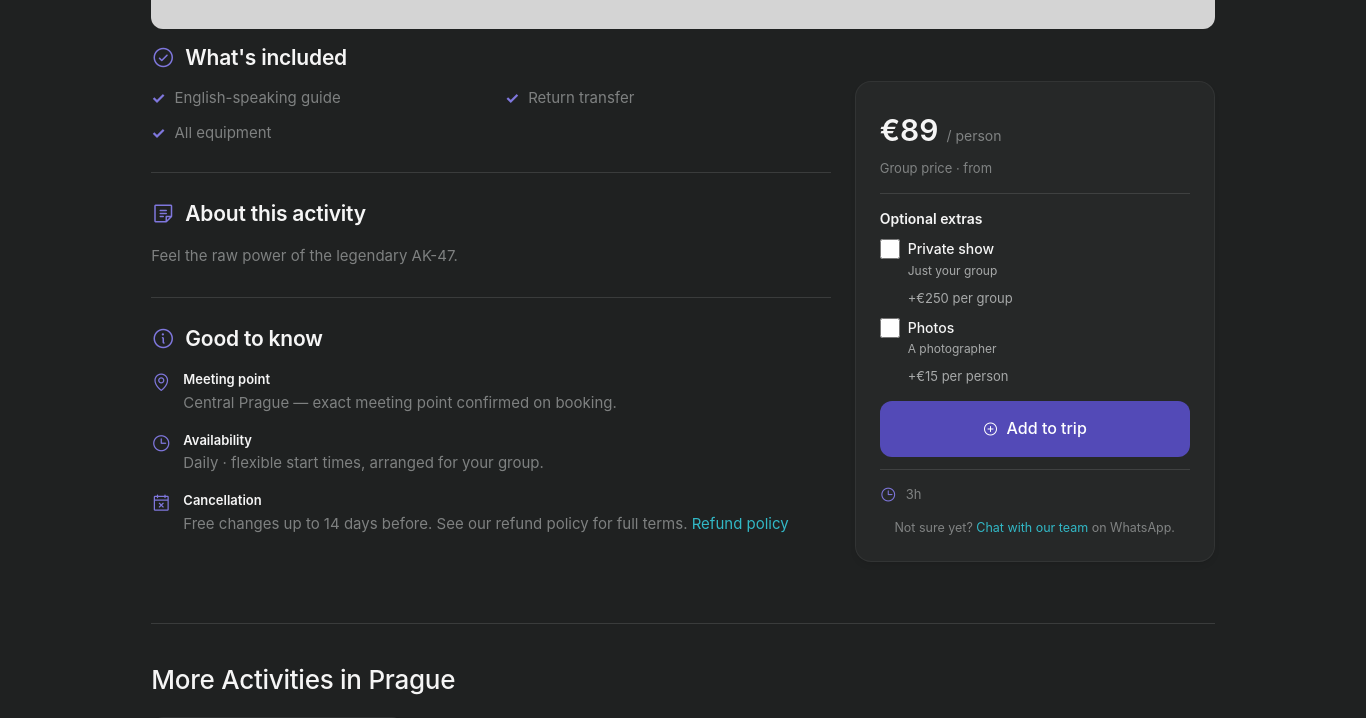
once the activity is in the trip, a ticked extra reaches it only through Update
(page scrolled)
Click the button "Add to trip" at (1035, 429), box [880,402,1190,457]
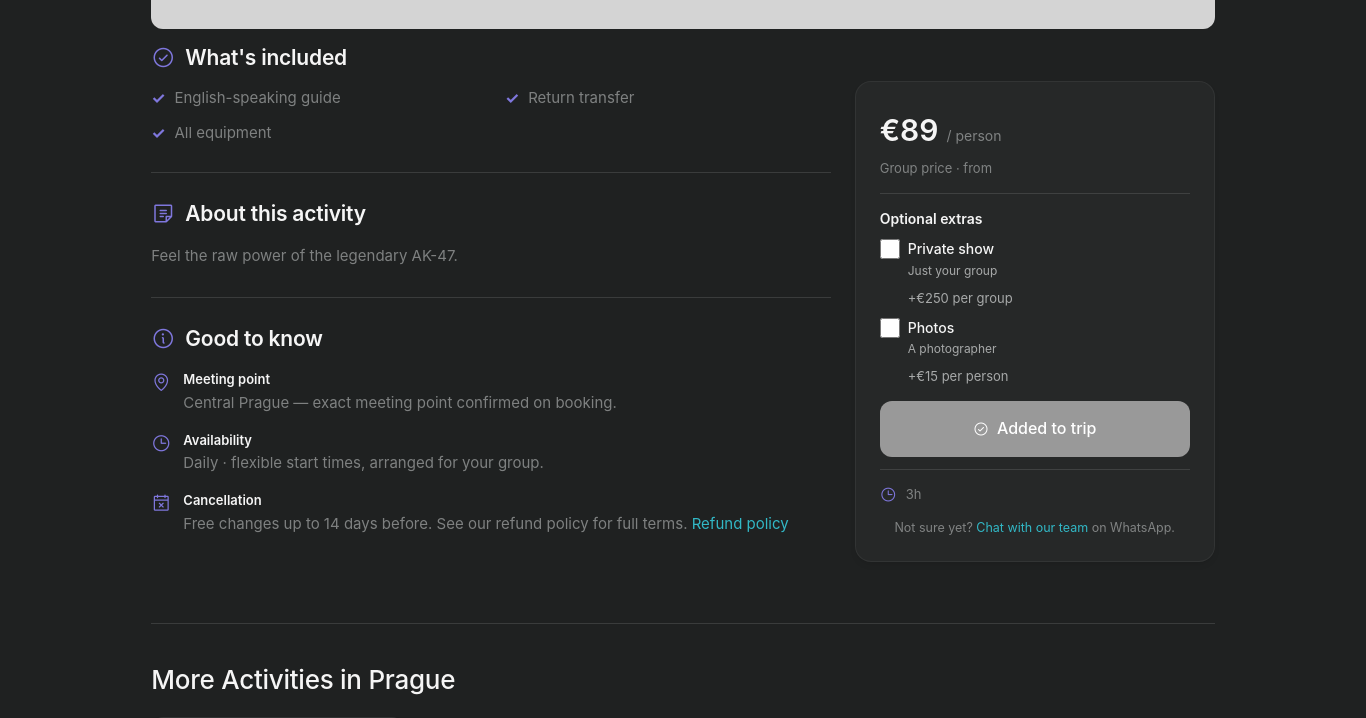
Click the checkbox labelled "Private show Just your group +€250 per group" at (890, 250), box [880,240,900,260]
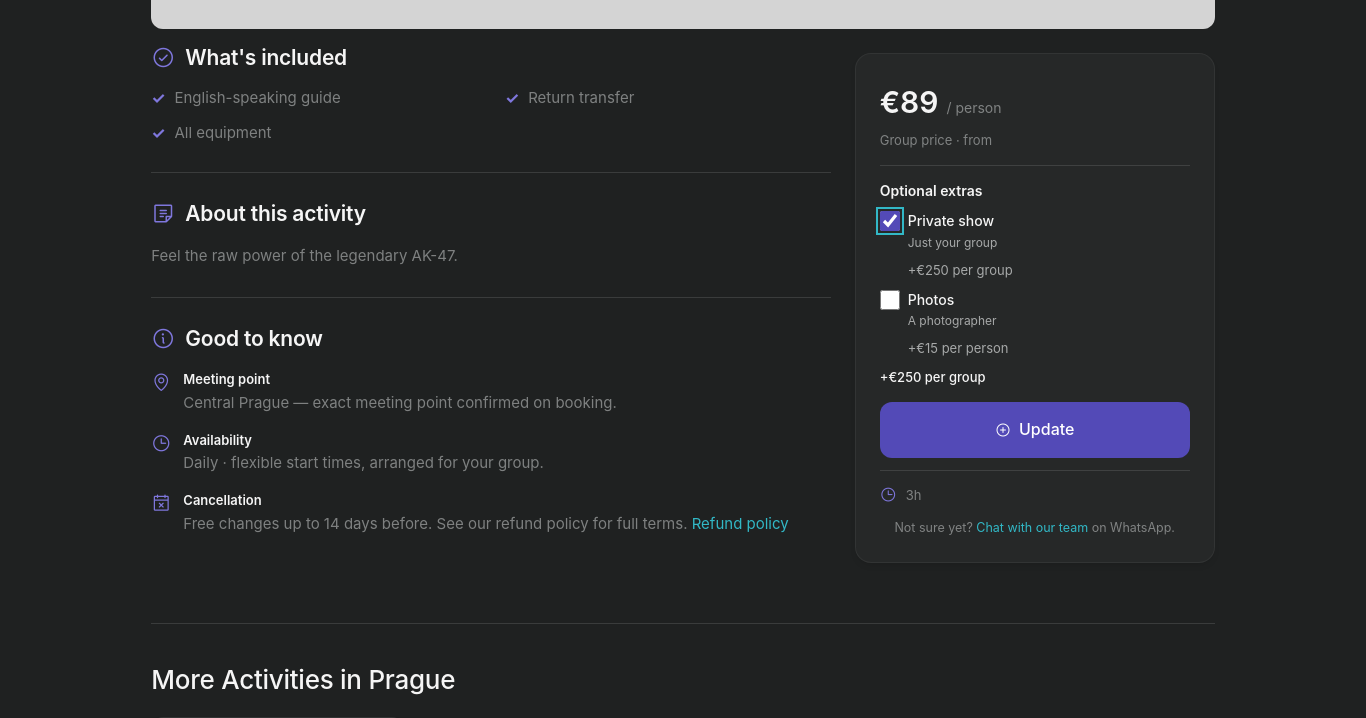
Click the button "Update" at (1035, 429), box [880,402,1190,457]
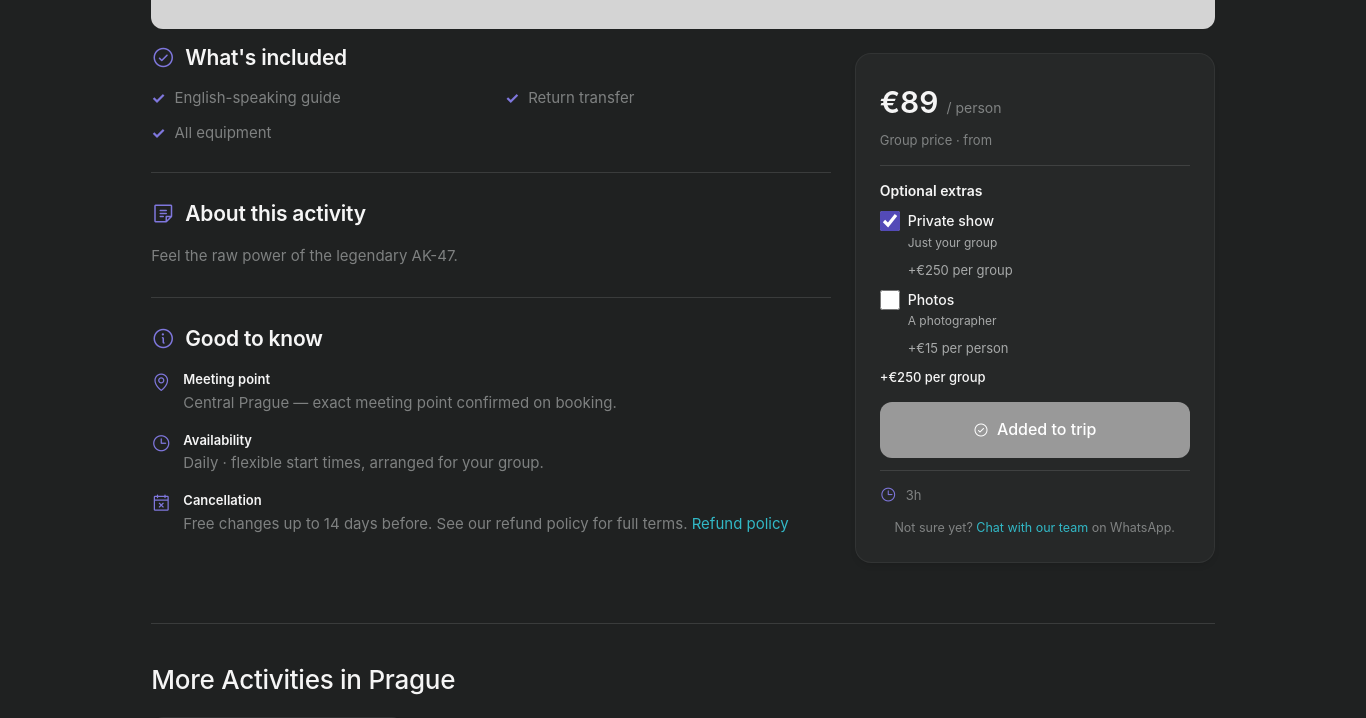
Check: the button "Added to trip" is disabled, box [880,402,1190,457]
